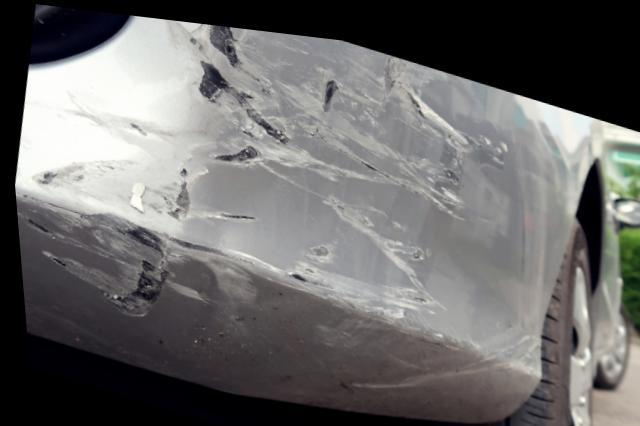scratch: (12, 14, 531, 382)
